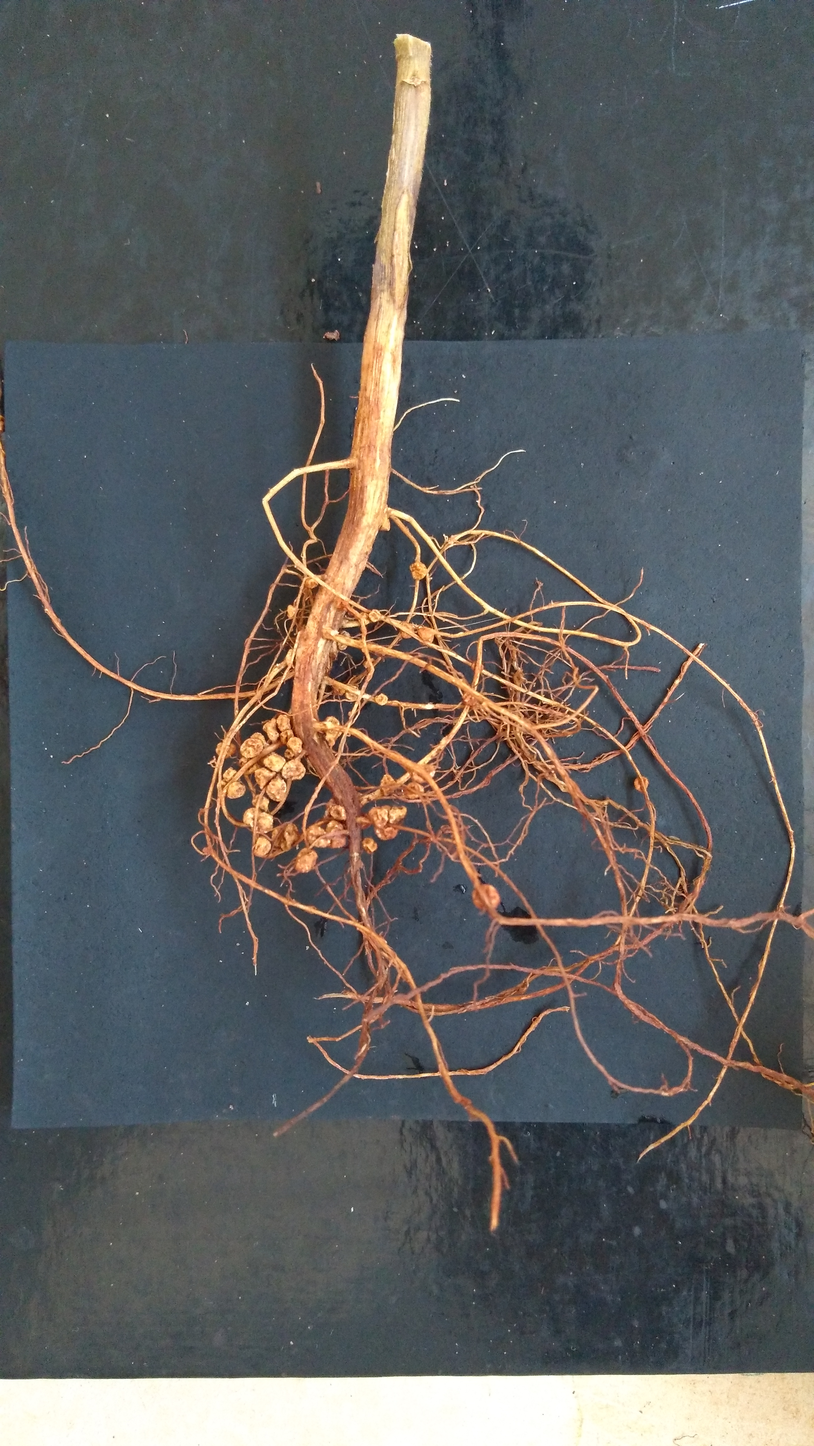nodule: (368, 805, 406, 840), (254, 767, 287, 802), (217, 766, 246, 799), (272, 822, 299, 852), (243, 807, 273, 833), (472, 883, 500, 909), (325, 819, 347, 848), (306, 825, 331, 848), (295, 848, 318, 873), (323, 716, 342, 746), (261, 751, 286, 773), (282, 759, 306, 780), (411, 763, 435, 783), (240, 739, 263, 758), (262, 718, 279, 741), (253, 836, 271, 857), (239, 757, 260, 775), (409, 561, 427, 580), (249, 732, 269, 749), (381, 774, 396, 796), (417, 626, 434, 645), (405, 782, 424, 799), (216, 742, 236, 758), (337, 630, 351, 651), (252, 794, 269, 811), (287, 736, 303, 753), (330, 805, 346, 821), (362, 837, 377, 854), (277, 714, 291, 732), (514, 667, 526, 687), (345, 684, 359, 701), (401, 621, 414, 639), (324, 798, 336, 817), (360, 811, 372, 830), (462, 691, 477, 706), (279, 729, 294, 744), (634, 776, 648, 792), (285, 648, 296, 668), (369, 608, 381, 623), (329, 641, 338, 660), (375, 693, 388, 706), (333, 683, 345, 696), (471, 661, 483, 672), (305, 578, 318, 588), (380, 518, 390, 531), (363, 658, 375, 668), (288, 604, 296, 618), (284, 748, 293, 759), (342, 600, 350, 612), (316, 574, 327, 581), (359, 612, 369, 619), (347, 610, 355, 616), (348, 711, 355, 716)
